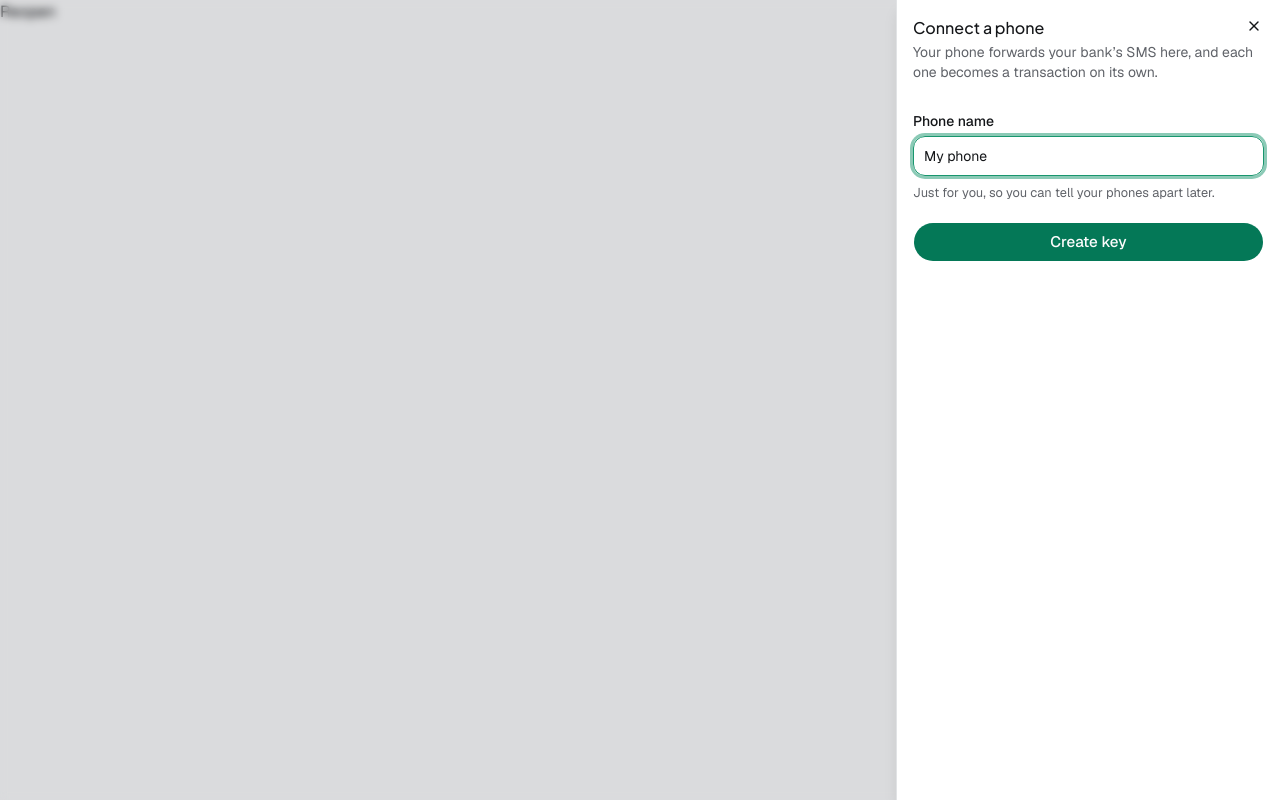
Test: ConnectPhoneSheet › shows server validation errors on the name field
Click the button "Create key" at (1088, 242), box x1=913 y1=222 x2=1264 y2=262
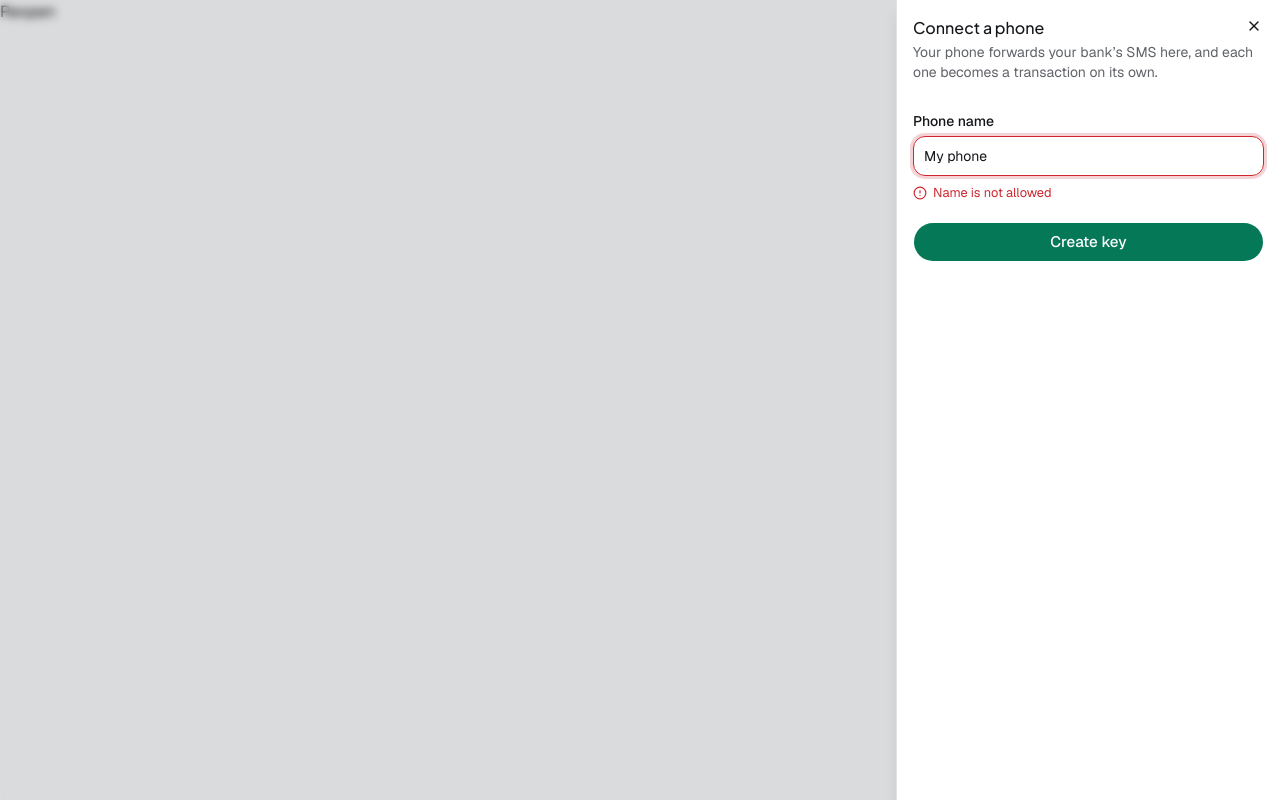
Expected: the text "Name is not allowed" is shown, x1=913 y1=184 x2=1052 y2=201
